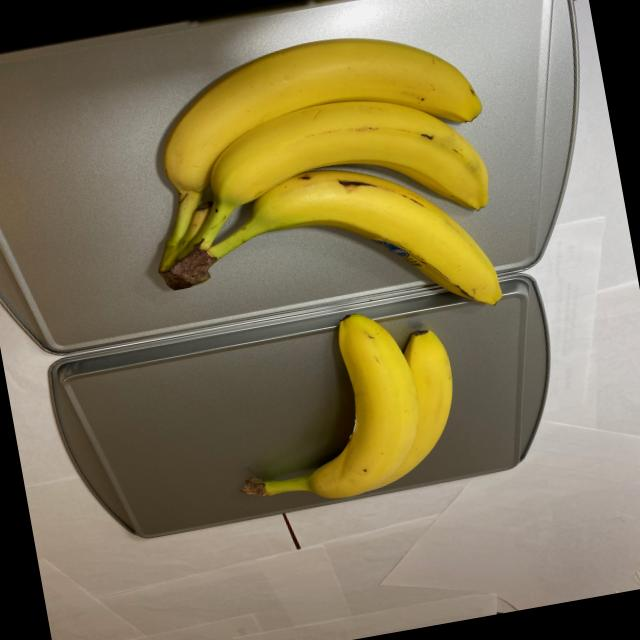banana: (104, 6, 518, 366), (214, 298, 468, 514)
